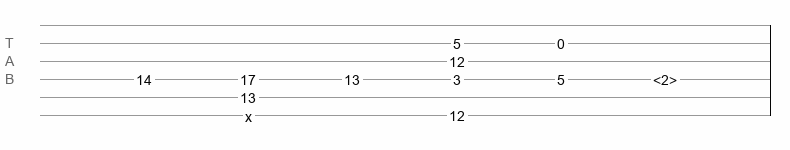0: (557, 36, 565, 46)
12: (449, 108, 465, 118), (449, 54, 465, 64)
13: (240, 90, 256, 100), (344, 72, 360, 82)
14: (136, 72, 152, 82)
17: (240, 72, 256, 82)
3: (453, 72, 461, 82)
5: (453, 36, 461, 46), (557, 72, 565, 82)
harmonic: (653, 72, 677, 82)
x: (245, 109, 252, 117)
